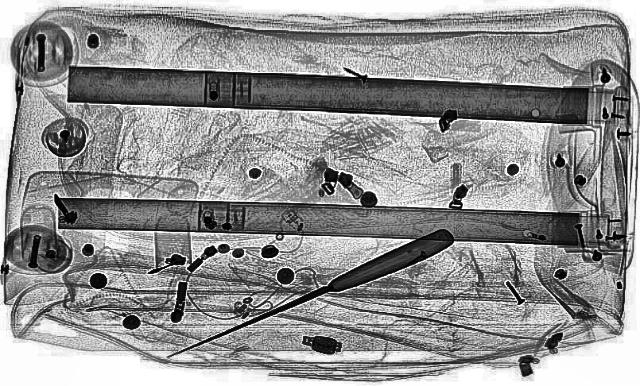Knife: (154, 228, 463, 364)
